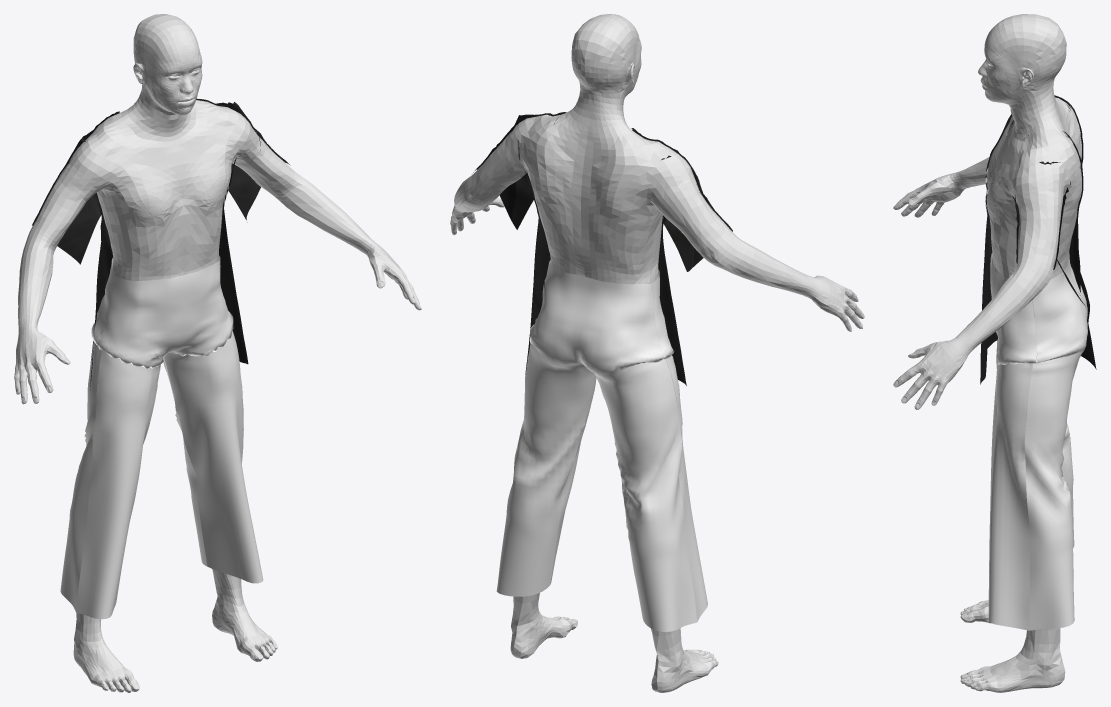
File: 1645885105389result.glb
3 views of the same model, side by side, from view 1: azimuth 30°, elevation 25°; view 2: azimuth 150°, elevation 25°; view 3: azimuth 270°, elevation 25° (orthographic).
Parts seen in each view (by area): view 1: makehuman_1.1-2021-12-29T14:18:15.898Z, Plane_Plane.003, top(black)_L_Plane.006; view 2: Plane_Plane.003, makehuman_1.1-2021-12-29T14:18:15.898Z, top(black)_L_Plane.006; view 3: makehuman_1.1-2021-12-29T14:18:15.898Z, Plane_Plane.003, top(black)_L_Plane.006.
Part boxes in pixels (x1,y1,x2,y2): makehuman_1.1-2021-12-29T14:18:15.898Z: (14,14,421,692); Plane_Plane.003: (60,255,263,619); top(black)_L_Plane.006: (32,98,290,389); Plane_Plane.003: (496,260,707,631); makehuman_1.1-2021-12-29T14:18:15.898Z: (450,14,864,692); top(black)_L_Plane.006: (473,112,732,385); makehuman_1.1-2021-12-29T14:18:15.898Z: (893,14,1081,692); Plane_Plane.003: (988,252,1087,630); top(black)_L_Plane.006: (980,95,1096,384).
Size of the model in its own units: 11.33 by 17.3 by 5.03.
Materials: 3 (1 with a texture image).
